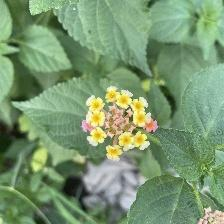common lanthana: (81, 85, 160, 159)
